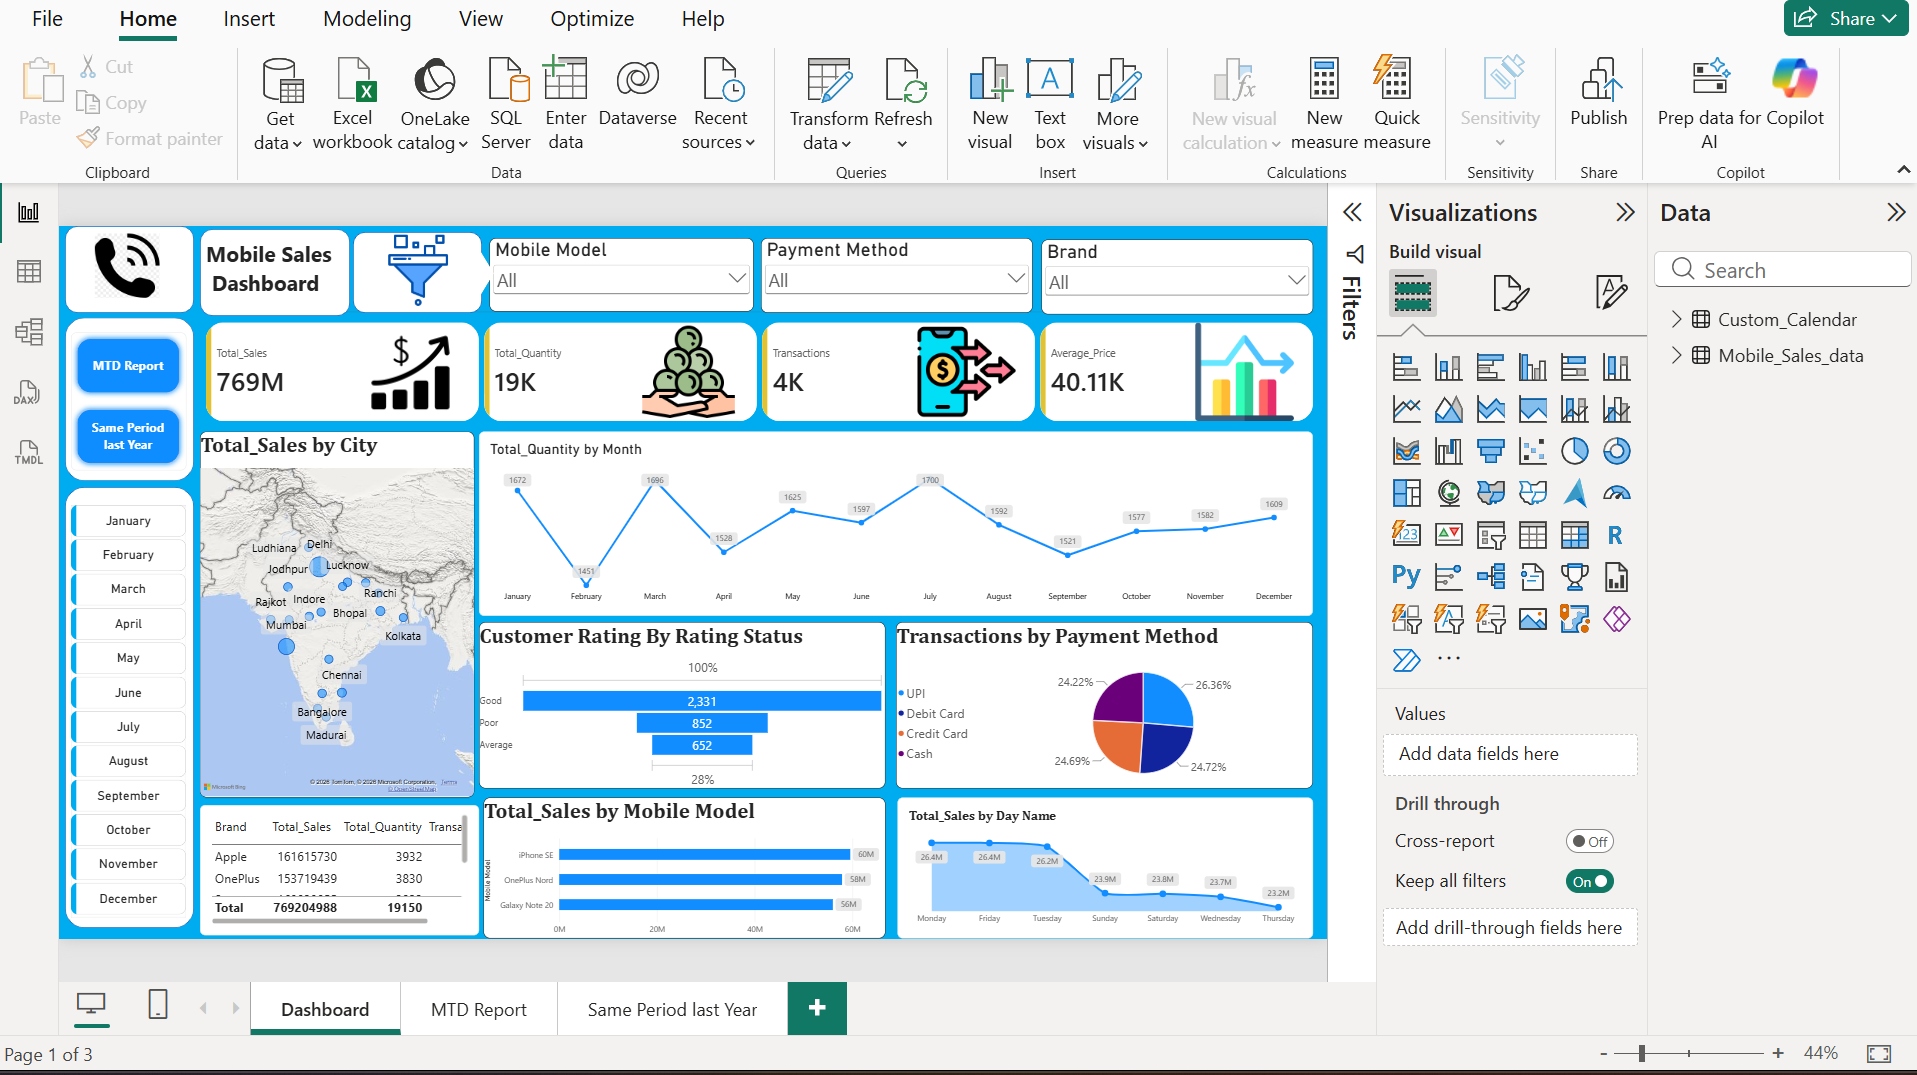

What the dashboard file says about the page in this screenshot:
{"tool":"powerbi","page":{"name":"Dashboard","canvas":[1920,1080],"ordinal":0},"visuals":[{"type":"shape","box":[9.1,0,195.3,131.7],"z":0},{"type":"shape","box":[9.1,138.5,195.3,247.6],"z":1000},{"type":"shape","box":[9.1,395.2,195.3,667.8],"z":2000},{"type":"advancedSlicerVisual","fields":{"Values":["Custom_Calendar.Date.Variation.Date Hierarchy.Month"]},"box":[18.2,422.5,174.9,624.6],"z":3000},{"type":"cardVisual","fields":{"Data":["Mobile_Sales_data.Total_Sales","Mobile_Sales_data.Total_Quantity","Mobile_Sales_data.Transactions","Mobile_Sales_data.Average_Price"]},"box":[222.6,129.5,1678.5,165.8],"z":4000},{"type":"slicer","fields":{"Values":["Mobile_Sales_data.Mobile Model"]},"box":[651.9,18.2,399.8,111.3],"z":5000},{"type":"slicer","fields":{"Values":["Mobile_Sales_data.Payment Method"]},"box":[1063,18.2,411.1,113.6],"z":6000},{"type":"slicer","fields":{"Values":["Mobile_Sales_data.Brand"]},"box":[1487.7,20.4,411.1,113.6],"z":7000},{"type":"shape","box":[445.2,9.1,195.3,122.7],"z":8000},{"type":"image","box":[470.2,11.4,147.6,111.3],"z":9000},{"type":"shape","box":[613.3,34.1,45.4,75],"z":10000},{"type":"image","box":[13.6,11.4,179.4,97.7],"z":11000},{"type":"shape","box":[213.5,4.5,227.1,131.7],"z":12000},{"type":"textbox","box":[222.6,20.4,199.9,88.6],"z":13000},{"type":"map","title":"Total_Sales by City","fields":{"Category":["Mobile_Sales_data.City"],"Size":["Mobile_Sales_data.Total_Sales"]},"box":[213.5,311.2,415.6,554.2],"z":14000},{"type":"lineChart","fields":{"Category":["Custom_Calendar.Date.Variation.Date Hierarchy.Month"],"Y":["Mobile_Sales_data.Total_Quantity"]},"box":[636,311.2,1262.8,279.4],"z":15000},{"type":"funnel","title":"Customer Rating By Rating Status","fields":{"Category":["Mobile_Sales_data.Rating Status"],"Y":["CountNonNull(Mobile_Sales_data.Rating Status)"]},"box":[636,599.6,615.5,252.1],"z":16000},{"type":"pieChart","fields":{"Category":["Mobile_Sales_data.Payment Method"],"Y":["Mobile_Sales_data.Transactions"]},"box":[1267.4,599.6,631.4,252.1],"z":17000},{"type":"clusteredBarChart","fields":{"Category":["Mobile_Sales_data.Mobile Model"],"Y":["Mobile_Sales_data.Total_Sales"]},"box":[642.8,865.4,608.7,213.5],"z":18000},{"type":"areaChart","fields":{"Category":["Custom_Calendar.Day Name"],"Y":["Mobile_Sales_data.Total_Sales"]},"box":[1269.7,865.4,629.2,213.5],"z":19000},{"type":"tableEx","fields":{"Values":["Mobile_Sales_data.Brand","Mobile_Sales_data.Total_Sales","Mobile_Sales_data.Total_Quantity","Mobile_Sales_data.Transactions"]},"box":[213.5,876.7,422.5,197.6],"z":20000},{"type":"pageNavigator","box":[18.2,161.3,174.9,209],"z":20001}]}

Visuals, with their boxes on the page's 1920x1080 design canvas (x1, y1, x2, y2). These are canvas units, not pixel positions in the 1917x1075 screenshot, which may show the page scaled, cropped or inside an application window:
shape: 9:0:204:132
shape: 9:138:204:386
shape: 9:395:204:1063
advancedSlicerVisual - Custom_Calendar.Date.Variation.Date Hierarchy.Month: 18:422:193:1047
cardVisual - Mobile_Sales_data.Total_Sales x Mobile_Sales_data.Total_Quantity: 223:130:1901:295
slicer - Mobile_Sales_data.Mobile Model: 652:18:1052:130
slicer - Mobile_Sales_data.Payment Method: 1063:18:1474:132
slicer - Mobile_Sales_data.Brand: 1488:20:1899:134
shape: 445:9:640:132
image: 470:11:618:123
shape: 613:34:659:109
image: 14:11:193:109
shape: 214:4:441:136
textbox: 223:20:422:109
"Total_Sales by City" map: 214:311:629:865
lineChart - Custom_Calendar.Date.Variation.Date Hierarchy.Month x Mobile_Sales_data.Total_Quantity: 636:311:1899:591
"Customer Rating By Rating Status" funnel: 636:600:1252:852
pieChart - Mobile_Sales_data.Payment Method x Mobile_Sales_data.Transactions: 1267:600:1899:852
clusteredBarChart - Mobile_Sales_data.Mobile Model x Mobile_Sales_data.Total_Sales: 643:865:1252:1079
areaChart - Custom_Calendar.Day Name x Mobile_Sales_data.Total_Sales: 1270:865:1899:1079
tableEx - Mobile_Sales_data.Brand x Mobile_Sales_data.Total_Sales: 214:877:636:1074
pageNavigator: 18:161:193:370
